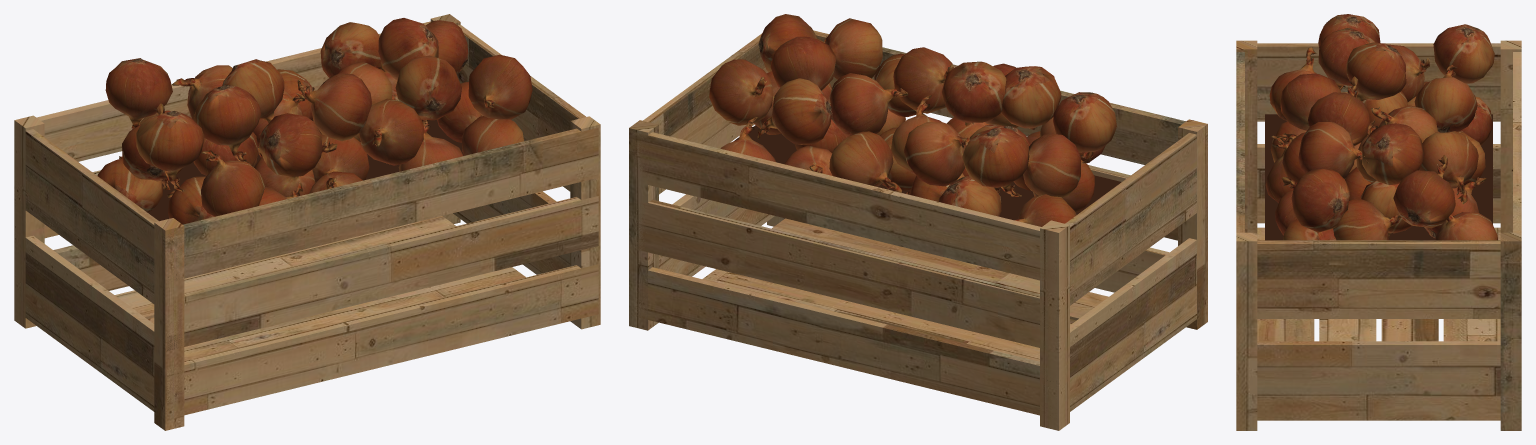
The model's file is skrzynka_cebula.glb.
3 renders of one model, left to right at view 1: azimuth 30°, elevation 25°; view 2: azimuth 150°, elevation 25°; view 3: azimuth 270°, elevation 25°, orthographic. The views are drawn at different scales.
Parts seen in each view (by area): view 1: skrzynka, cebula, dno; view 2: skrzynka, cebula, dno; view 3: skrzynka, cebula, dno.
Part boxes in pixels (bbox=[...]): skrzynka: bbox=[14, 14, 600, 430]; cebula: bbox=[97, 18, 532, 224]; dno: bbox=[148, 119, 463, 221]; skrzynka: bbox=[629, 30, 1207, 430]; cebula: bbox=[709, 14, 1117, 226]; dno: bbox=[734, 125, 1121, 220]; skrzynka: bbox=[1236, 40, 1521, 430]; cebula: bbox=[1265, 14, 1497, 240]; dno: bbox=[1265, 114, 1492, 240].
Size of the model in its own units: 0.5 by 0.3021 by 0.3.
3 materials, 3 textured.
